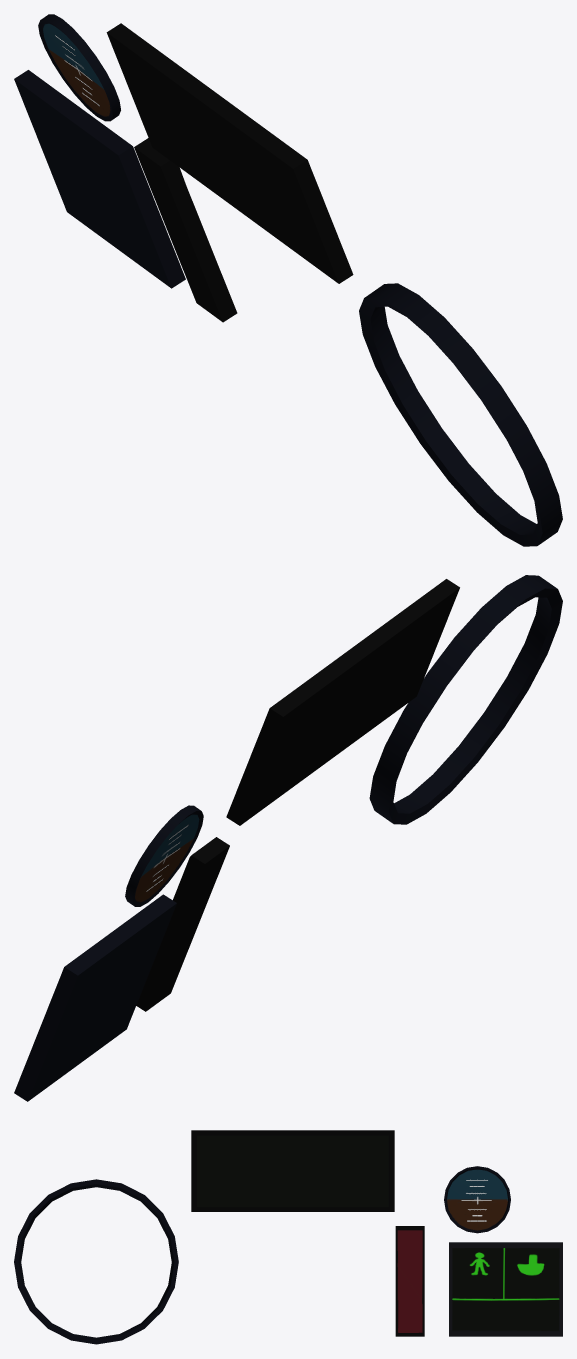
File: Dials.obj
3 views of the same model, one above another, from view 1: azimuth 30°, elevation 25°; view 2: azimuth 150°, elevation 25°; view 3: azimuth 270°, elevation 25° (orthographic). The views are drawn at different scales.
Parts seen in each view (by area): view 1: polySurface3 Cockpit:polySurface9; view 2: polySurface3 Cockpit:polySurface9; view 3: polySurface3 Cockpit:polySurface9.
Part boxes in pixels (x1,y1,x2,y2): polySurface3 Cockpit:polySurface9: [14, 14, 562, 546]; polySurface3 Cockpit:polySurface9: [14, 575, 562, 1101]; polySurface3 Cockpit:polySurface9: [14, 1130, 562, 1344].
Bounding box in the file's own units: 0.4426 × 0.9997 × 2.7.
